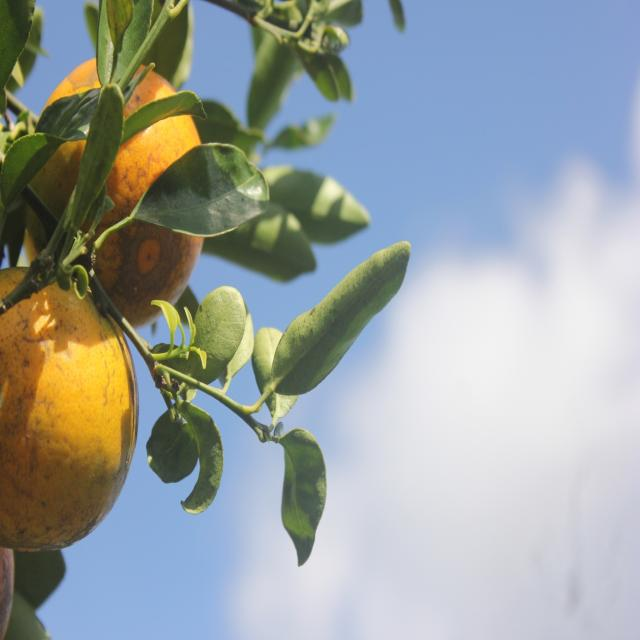melanose: (268, 241, 411, 411)
